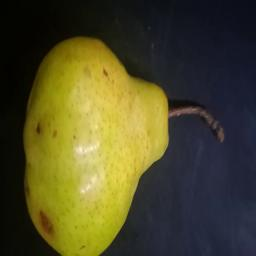Pear Semifresh: (24, 35, 223, 256)
